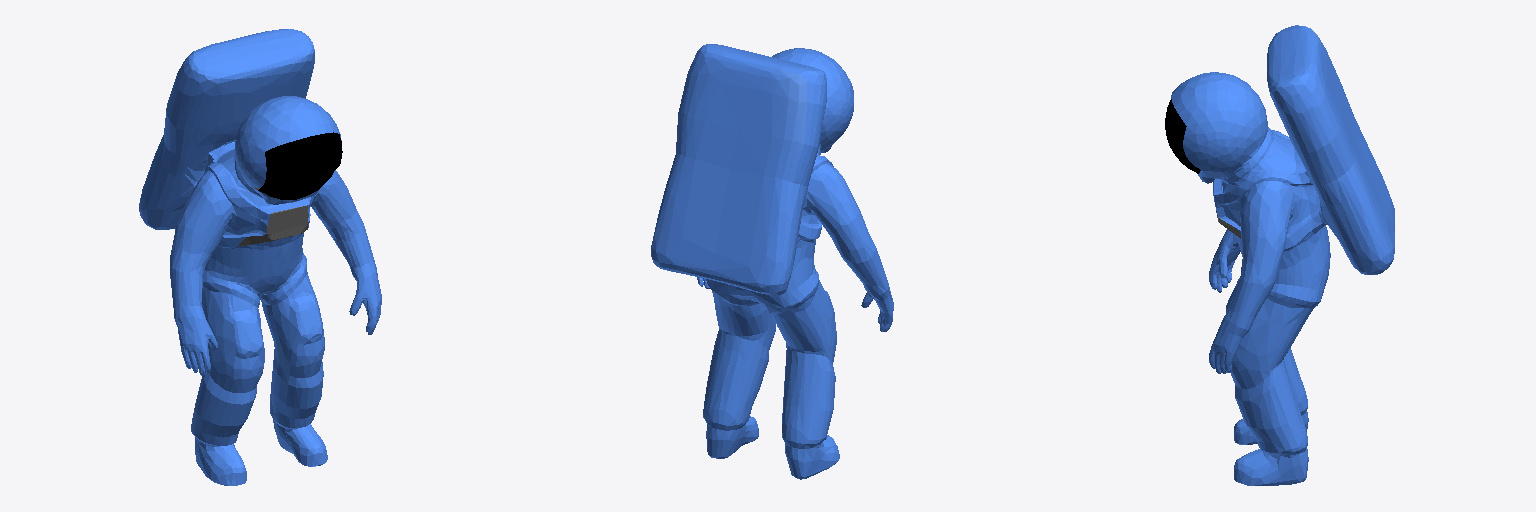
The picture shows the model from 3 angles: view 1: azimuth 30°, elevation 25°; view 2: azimuth 150°, elevation 25°; view 3: azimuth 270°, elevation 25°; orthographic projection.
Parts seen in each view (by area): view 1: 11070_astronaut_v4; view 2: 11070_astronaut_v4; view 3: 11070_astronaut_v4.
Boxes of the visible parts, <box> form: 11070_astronaut_v4: <box>139,29,381,485</box>; 11070_astronaut_v4: <box>651,44,893,479</box>; 11070_astronaut_v4: <box>1165,25,1394,485</box>.
Bounding box in the file's own units: 0.9143 × 1.8 × 0.9119.
Materials: 2 (2 with a texture image).